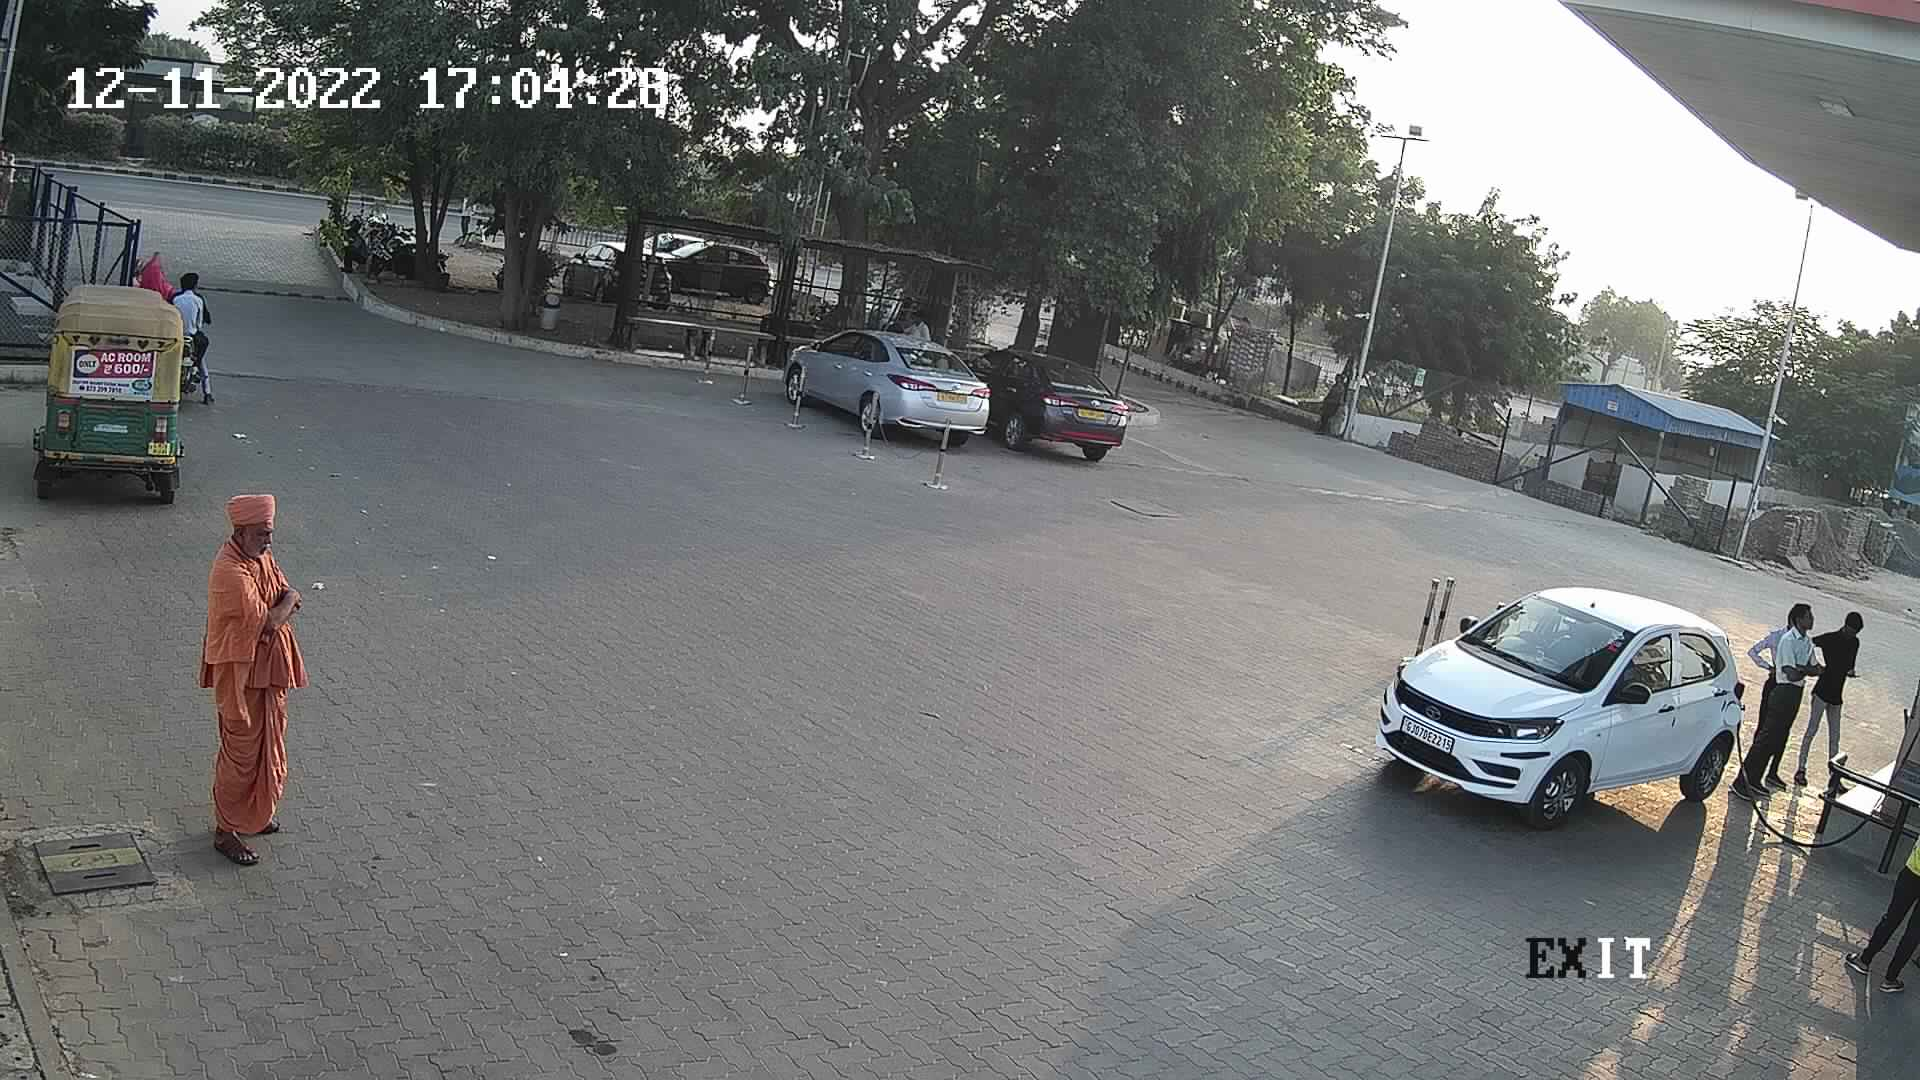Auto: (22, 273, 199, 516)
Bike: (156, 269, 220, 410)
Car: (1370, 564, 1751, 833), (782, 311, 1011, 452), (968, 336, 1134, 463), (646, 240, 775, 309), (554, 229, 630, 307), (640, 222, 716, 255)
